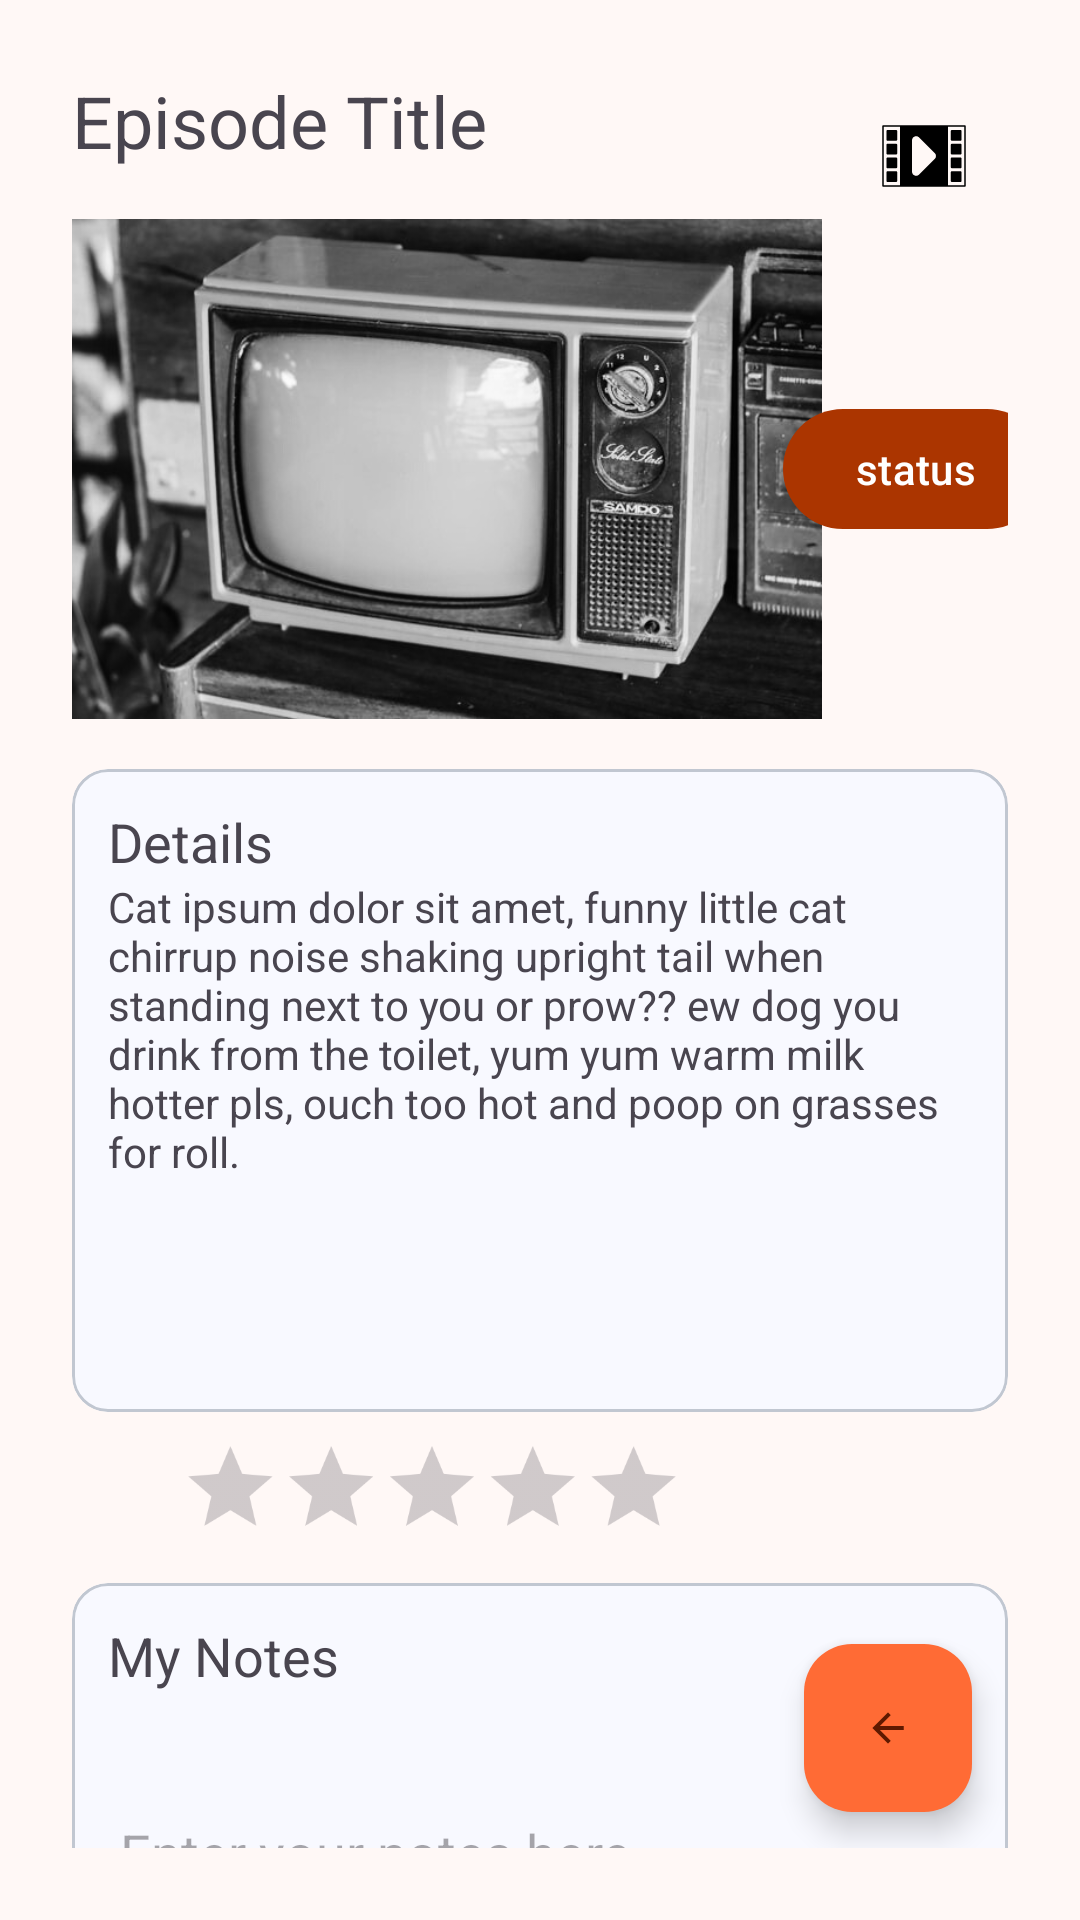

Icon bounding boxes for this 1080x1920 phone screenshot, format (x1, y1, x2, y2):
back button: (804, 1644, 972, 1812)
